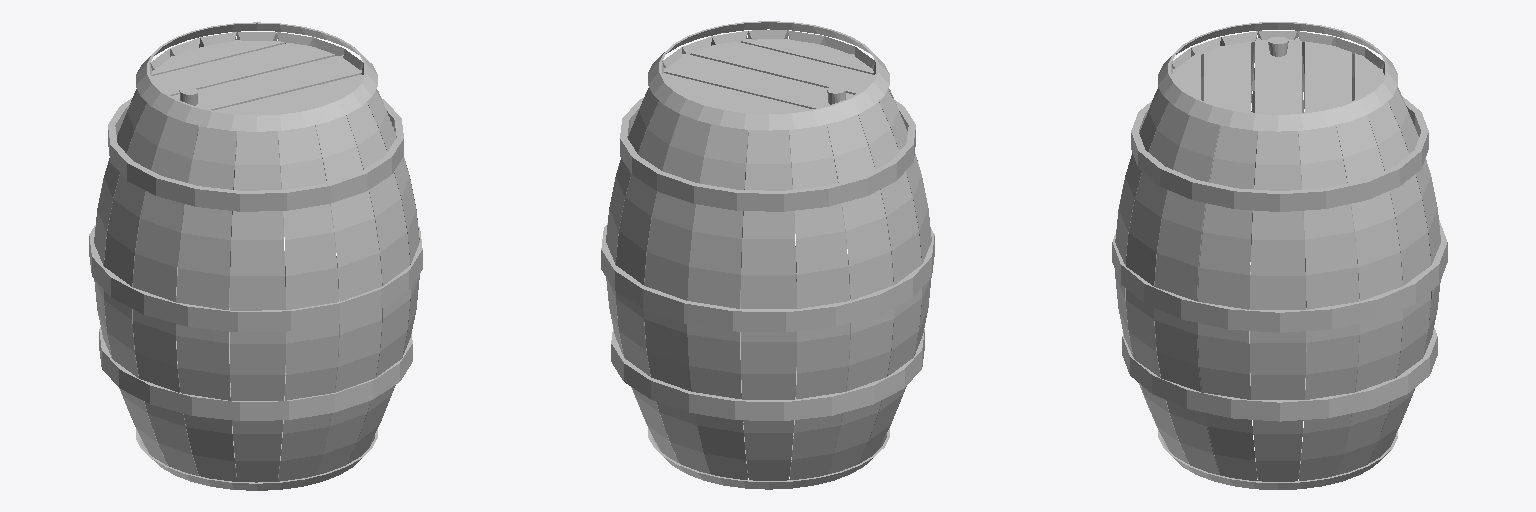
The model's file is barrel.obj.
The picture shows the model from 3 angles: view 1: azimuth 30°, elevation 25°; view 2: azimuth 150°, elevation 25°; view 3: azimuth 270°, elevation 25°; orthographic projection.
Parts seen in each view (by area): view 1: pCube28; view 2: pCube28; view 3: pCube28.
Boxes of the visible parts, <box> form: pCube28: <box>89,22,422,490</box>; pCube28: <box>601,21,934,489</box>; pCube28: <box>1112,22,1447,489</box>.
Size of the model in its own units: 7.09 by 8.76 by 7.09.